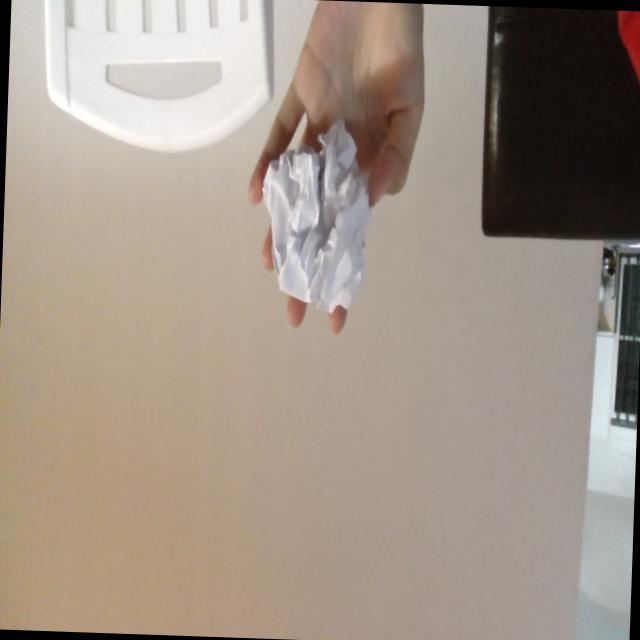crumpled_paper: (256, 109, 377, 317)
